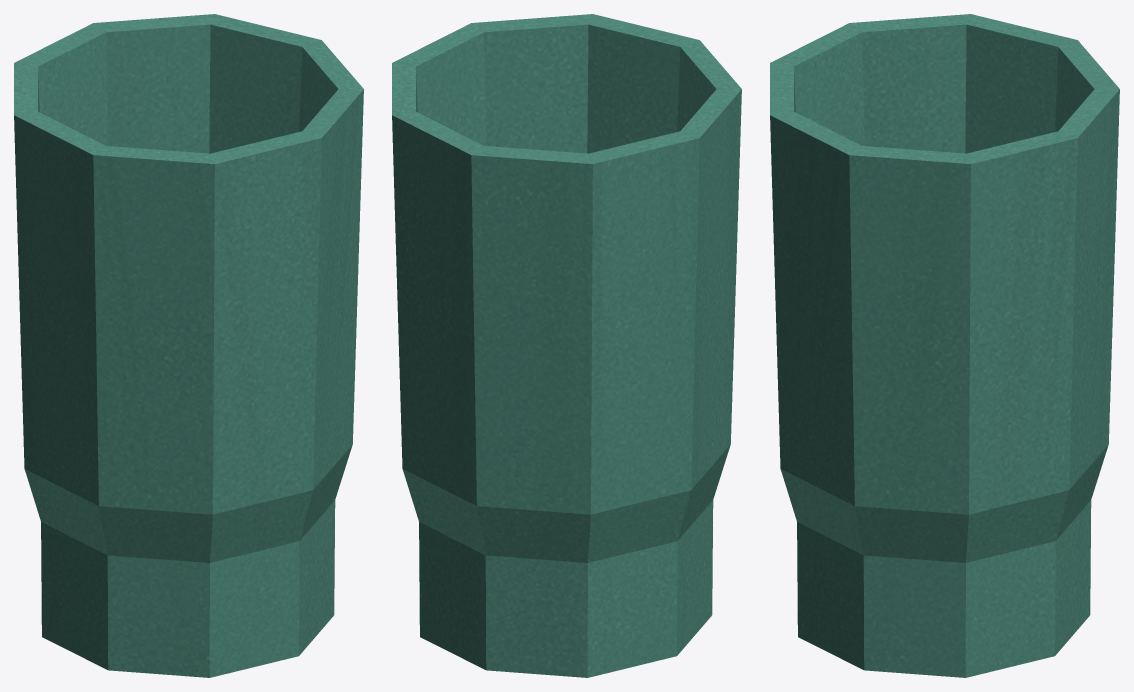
Rendered from copo variado.fbx.
3 views of the same model, side by side, from view 1: azimuth 30°, elevation 25°; view 2: azimuth 150°, elevation 25°; view 3: azimuth 270°, elevation 25° (orthographic).
Parts seen in each view (by area): view 1: Cylinder.002; view 2: Cylinder.002; view 3: Cylinder.002.
Part boxes in pixels (x1,y1,x2,y2): Cylinder.002: [14, 14, 363, 677]; Cylinder.002: [392, 14, 741, 677]; Cylinder.002: [770, 14, 1119, 677].
Bounding box in the file's own units: 8.66 × 14.14 × 8.53.
